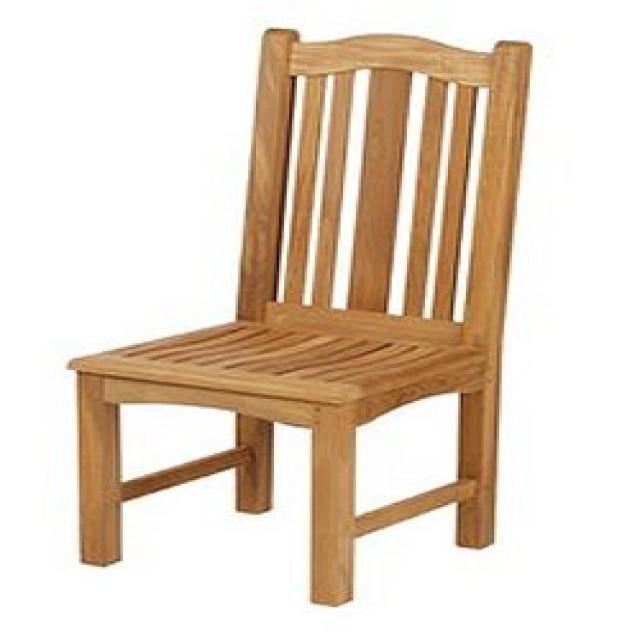chair: (64, 25, 532, 607)
